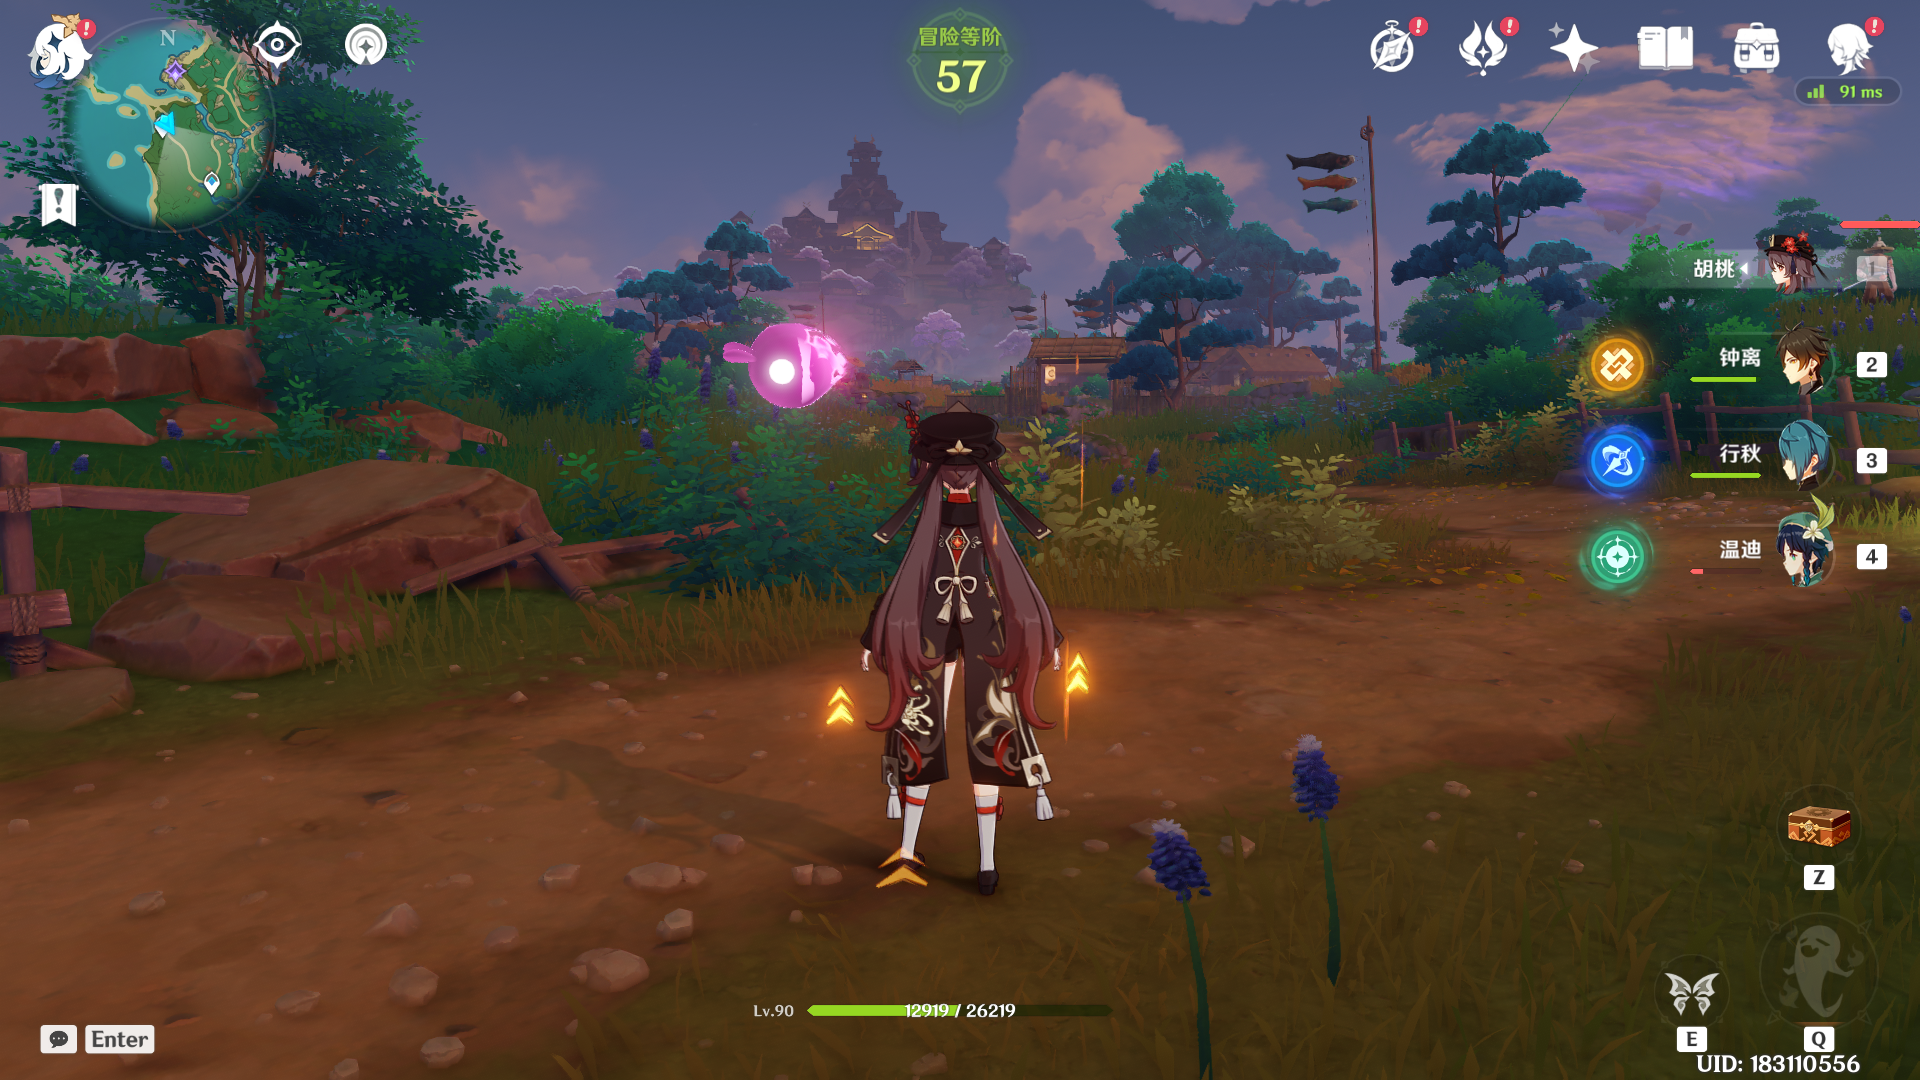character: (829, 394, 1091, 895)
